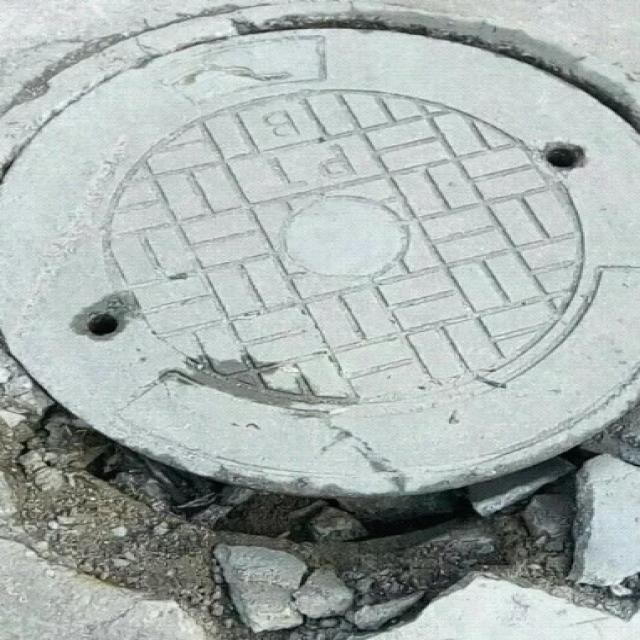manhole: (0, 4, 640, 496)
